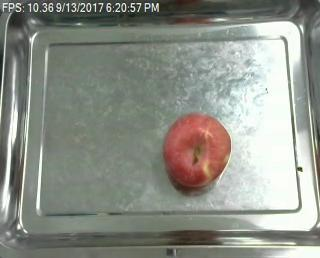apple: (163, 113, 233, 189)
